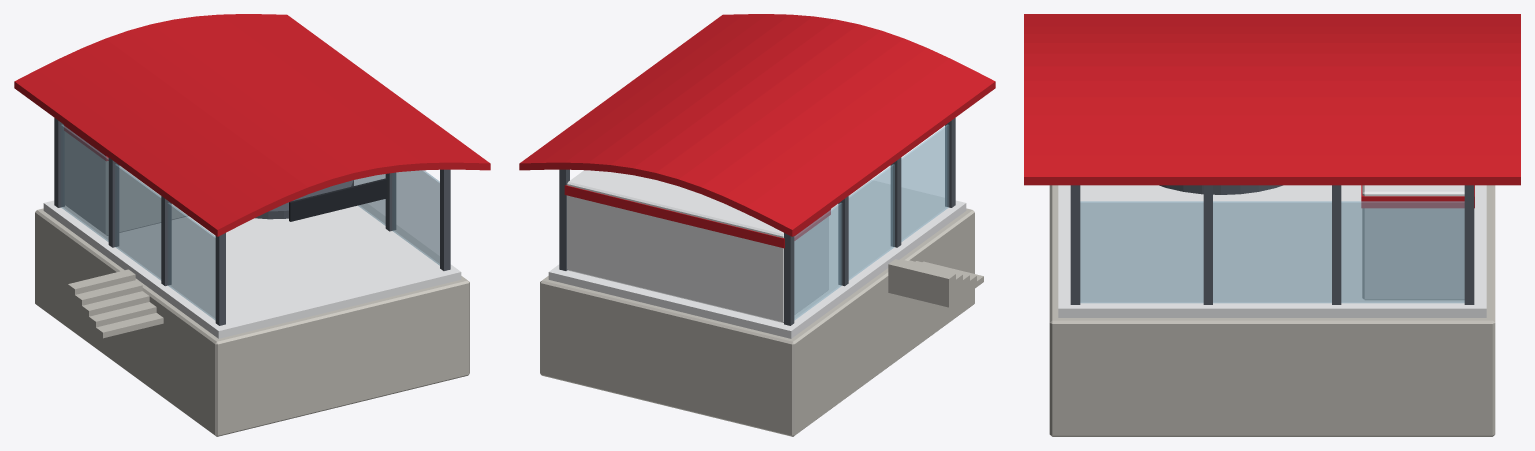
File: ropeway-station.glb
3 views of the same model, side by side, from view 1: azimuth 30°, elevation 25°; view 2: azimuth 150°, elevation 25°; view 3: azimuth 270°, elevation 25° (orthographic). The views are drawn at different scales.
Parts seen in each view (by area): view 1: Roof, Plinth, Deck, GlassL, DriveRoom, GlassR, Sign, Post.004, Step.004, Post, Step.003, Post.002 (+7 smaller); view 2: Roof, Plinth, DriveRoom, Deck, GlassL, Stripe, Step.004, Post.003, Post.001, Post, Post.002, Post.007; view 3: Roof, Plinth, Deck, GlassR, DriveRoom, Post.004, Post.007, Stripe, Post.005, Post.006, BullWheel.
Part boxes in pixels (x1,y1,x2,y2): Roof: (14, 14, 490, 236); Plinth: (35, 208, 469, 436); Deck: (43, 200, 461, 338); GlassL: (61, 124, 215, 320); DriveRoom: (65, 131, 188, 235); GlassR: (354, 170, 439, 265); Sign: (289, 178, 387, 221); Post.004: (440, 169, 450, 270); Step.004: (68, 269, 135, 317); Post: (215, 233, 225, 325); Step.003: (75, 280, 142, 322); Post.002: (108, 157, 119, 247); Roof: (519, 14, 995, 236); Plinth: (540, 208, 974, 436); DriveRoom: (567, 170, 828, 322); Deck: (548, 180, 966, 338); GlassL: (794, 124, 948, 320); Stripe: (564, 185, 830, 248); Step.004: (888, 259, 955, 307); Post.003: (784, 233, 794, 325); Post.001: (890, 157, 901, 247); Post: (945, 118, 955, 207); Post.002: (838, 196, 848, 286); Post.007: (559, 169, 569, 270); Roof: (1024, 14, 1520, 185); Plinth: (1049, 185, 1495, 436); Deck: (1058, 185, 1486, 317); GlassR: (1080, 201, 1464, 303); DriveRoom: (1362, 185, 1464, 299); Post.004: (1070, 185, 1080, 304); Post.007: (1464, 185, 1474, 304); Stripe: (1361, 185, 1474, 208); Post.005: (1203, 185, 1212, 304); Post.006: (1332, 185, 1341, 304); BullWheel: (1159, 185, 1282, 194).
Size of the model in its own units: 10.7 by 7.62 by 11.6.
